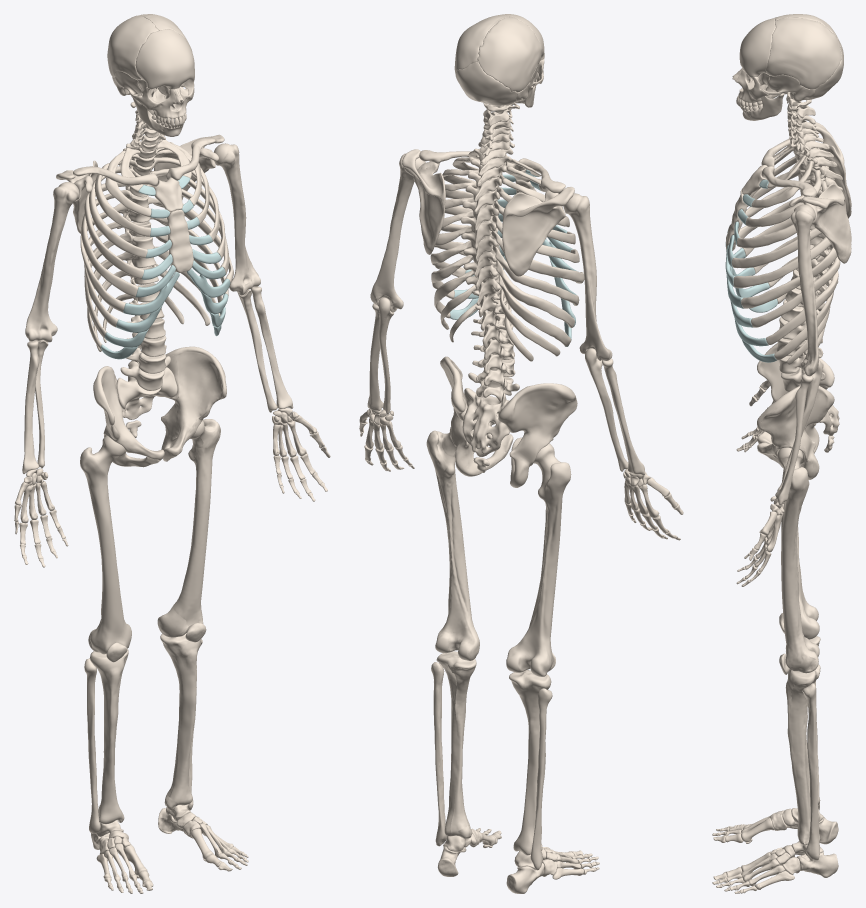
File: overview-skeleton.glb
3 views of the same model, side by side, from view 1: azimuth 30°, elevation 25°; view 2: azimuth 150°, elevation 25°; view 3: azimuth 270°, elevation 25° (orthographic). The views are drawn at different scales.
Parts seen in each view (by area): view 1: Femur.r, Femur.l, Hip bone.l, Tibia.l, Tibia.r, Frontal bone, Humerus.r, Humerus.l, Hip bone.r, Parietal bone right, Sacrum, Fibula.r (+17 smaller); view 2: Femur.r, Femur.l, Hip bone.r, Scapula.r, Parietal bone right, Tibia.l, Tibia.r, Humerus.r, Scapula.l, Humerus.l, Hip bone.l, Sacrum (+15 smaller); view 3: Femur.l, Parietal bone left, Hip bone.l, Tibia.l, Humerus.l, Scapula.l, Fibula.l, Frontal bone, Hip bone.r, Radius.l, Rib (7th).l, Rib (6th).l (+27 smaller).
Part boxes in pixels (x1,y1,x2,y2): Femur.r: (80, 435, 131, 654); Femur.l: (157, 419, 220, 637); Hip bone.l: (161, 346, 226, 461); Tibia.l: (160, 633, 201, 810); Tibia.r: (89, 649, 128, 824); Frontal bone: (135, 29, 194, 89); Humerus.r: (25, 182, 79, 342); Humerus.l: (214, 143, 260, 295); Hip bone.r: (93, 366, 164, 467); Parietal bone right: (107, 15, 158, 79); Sacrum: (116, 367, 177, 419); Fibula.r: (84, 658, 100, 833); Femur.r: (506, 443, 571, 676); Femur.l: (426, 427, 479, 660); Hip bone.r: (498, 383, 577, 487); Scapula.r: (502, 187, 574, 276); Parietal bone right: (477, 16, 542, 92); Tibia.l: (436, 651, 476, 838); Tibia.r: (509, 670, 551, 855); Humerus.r: (563, 193, 612, 360); Scapula.l: (402, 149, 445, 254); Humerus.l: (370, 153, 425, 312); Hip bone.l: (440, 356, 513, 476); Sacrum: (462, 387, 509, 456); Femur.l: (777, 447, 819, 673); Parietal bone left: (765, 17, 841, 89); Hip bone.l: (757, 385, 834, 479); Tibia.l: (785, 664, 820, 845); Humerus.l: (790, 204, 818, 376); Scapula.l: (789, 183, 851, 263); Fibula.l: (802, 683, 819, 860); Frontal bone: (739, 17, 775, 77); Hip bone.r: (757, 343, 834, 453); Radius.l: (775, 374, 813, 505); Rib (7th).l: (741, 247, 837, 308); Rib (6th).l: (733, 236, 831, 288).
Bounding box in the file's own units: 0.671 × 1.7 × 0.2542.
